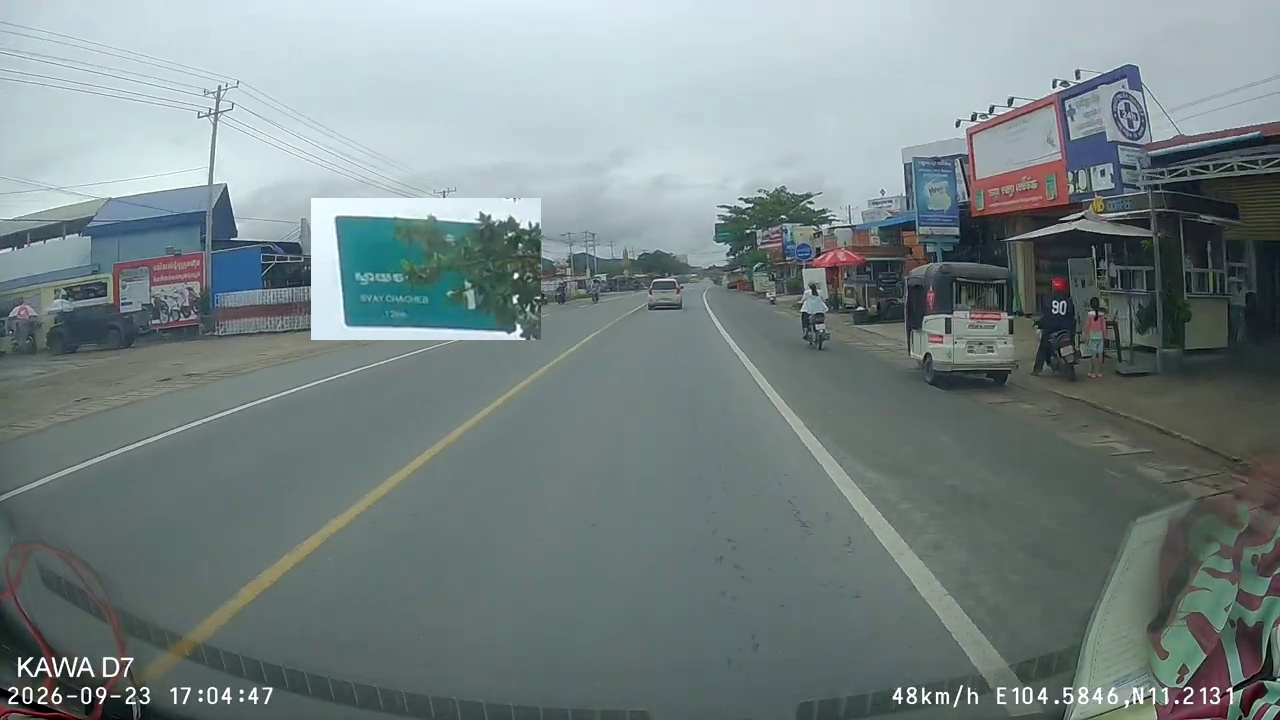direction_sign: (311, 198, 541, 340)
